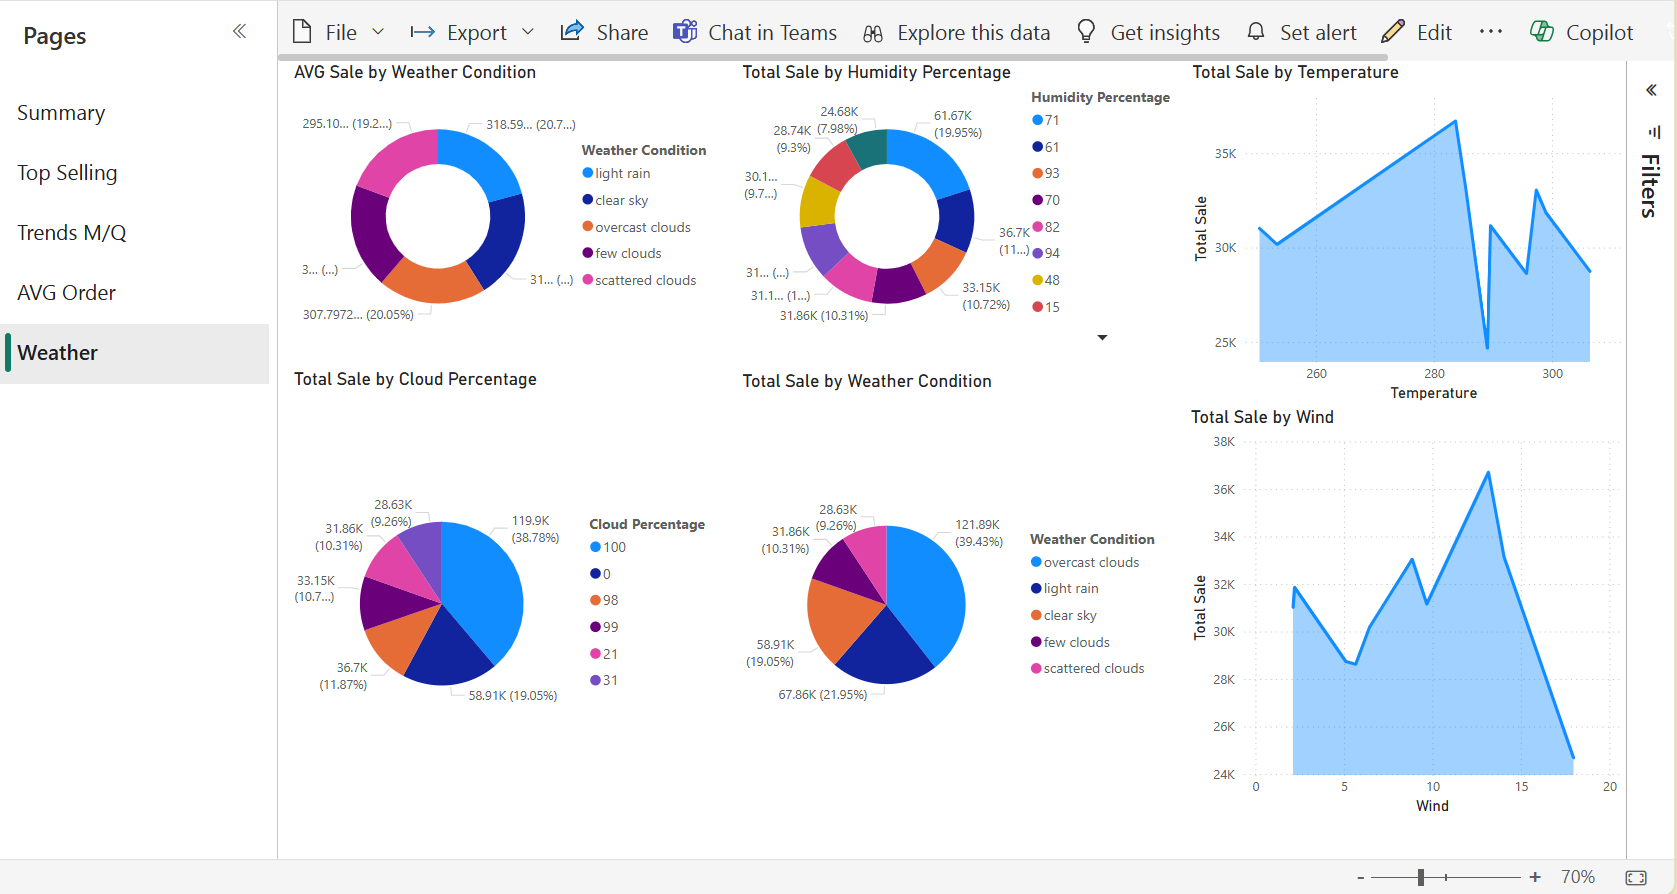

This screenshot's page, from the dashboard's own definition file:
{"tool":"powerbi","page":{"name":"Weather","canvas":[1280,720],"ordinal":4},"visuals":[{"type":"donutChart","fields":{"Category":["gold_sales_per_weather_condition.weather_description"],"Y":["Avg(gold_sales_per_weather_condition.total_sales)"]},"box":[9.4,0,417.1,275],"z":0},{"type":"pieChart","fields":{"Category":["silver_sales.clouds_all"],"Y":["Sum(silver_sales.order_sale)"]},"box":[9.9,292.5,416.5,426.4],"z":1},{"type":"donutChart","fields":{"Category":["silver_sales.main_humidity"],"Y":["Sum(silver_sales.order_sale)"]},"box":[436,0,417,275],"z":2},{"type":"pieChart","fields":{"Category":["silver_sales.weather_description"],"Y":["Sum(silver_sales.order_sale)"]},"box":[436,293,417,426],"z":3},{"type":"stackedAreaChart","fields":{"Category":["silver_sales.main_temp"],"Y":["Sum(silver_sales.order_sale)"]},"box":[862.3,0,417.1,327.3],"z":4},{"type":"areaChart","fields":{"Category":["silver_sales.wind_speed"],"Y":["Sum(silver_sales.order_sale)"]},"box":[862,327,417,392],"z":5}]}

Visuals, with their boxes on the page's 1280x720 design canvas (x1, y1, x2, y2). These are canvas units, not pixel positions in the 1677x894 screenshot, which may show the page scaled, cropped or inside an application window:
donutChart - gold_sales_per_weather_condition.weather_description x Avg(gold_sales_per_weather_condition.total_sales): pyautogui.locateOnScreen(9, 0, 426, 275)
pieChart - silver_sales.clouds_all x Sum(silver_sales.order_sale): pyautogui.locateOnScreen(10, 292, 426, 719)
donutChart - silver_sales.main_humidity x Sum(silver_sales.order_sale): pyautogui.locateOnScreen(436, 0, 853, 275)
pieChart - silver_sales.weather_description x Sum(silver_sales.order_sale): pyautogui.locateOnScreen(436, 293, 853, 719)
stackedAreaChart - silver_sales.main_temp x Sum(silver_sales.order_sale): pyautogui.locateOnScreen(862, 0, 1279, 327)
areaChart - silver_sales.wind_speed x Sum(silver_sales.order_sale): pyautogui.locateOnScreen(862, 327, 1279, 719)
